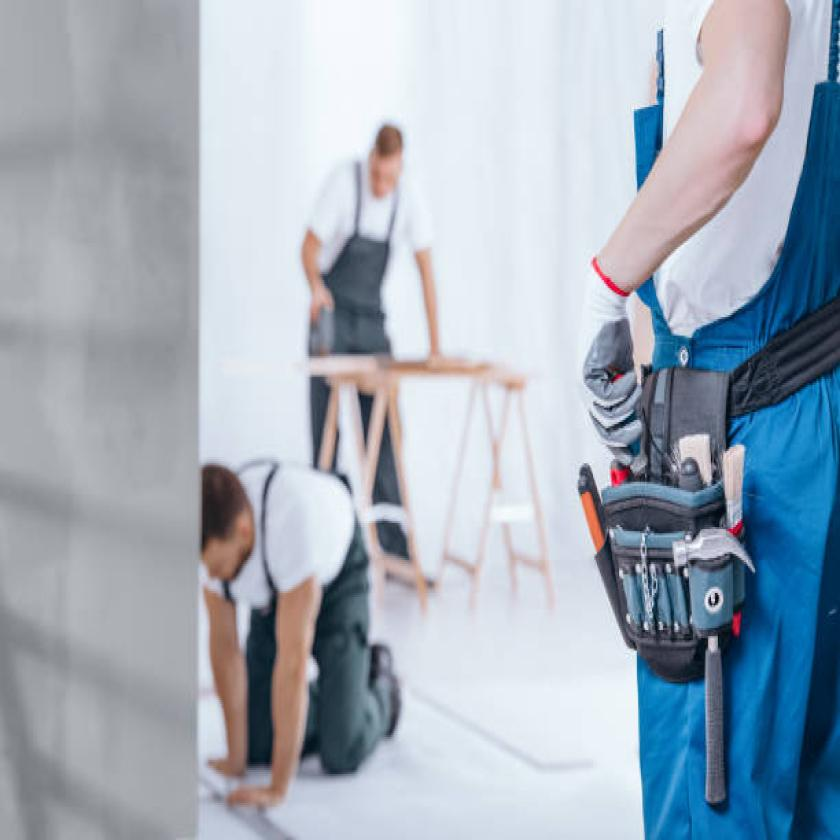Sin_casco: (189, 442, 259, 601), (366, 120, 410, 222)
